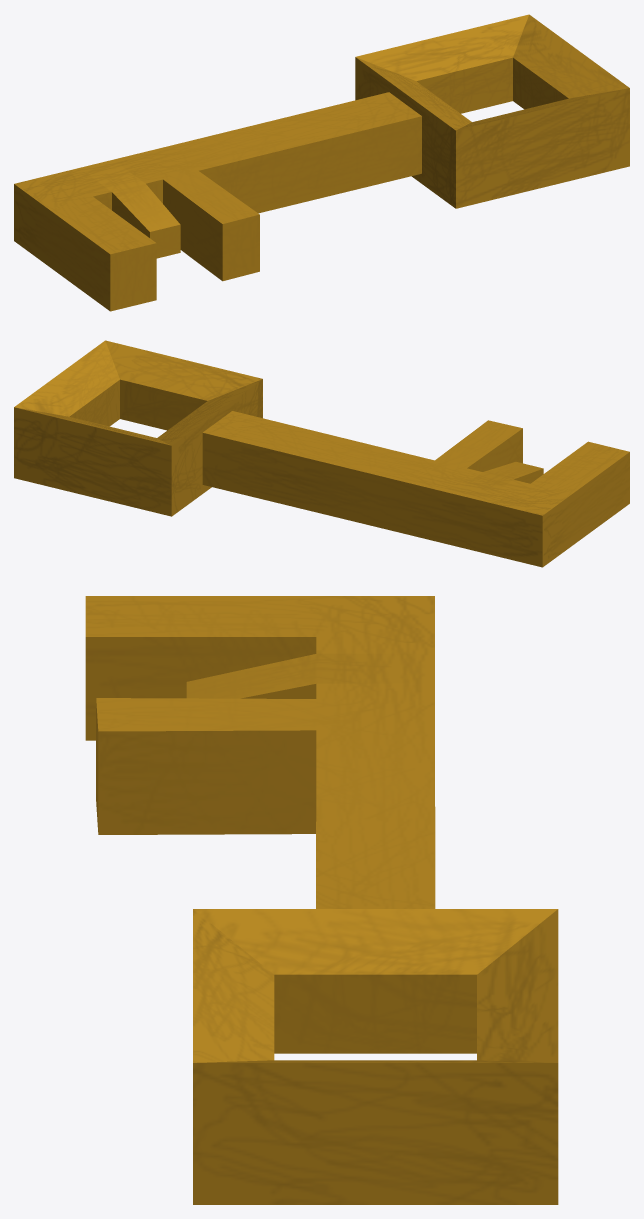
Rendered from Key.fbx.
3 views of the same model, one above another, from view 1: azimuth 30°, elevation 25°; view 2: azimuth 150°, elevation 25°; view 3: azimuth 270°, elevation 25° (orthographic). The views are drawn at different scales.
Parts seen in each view (by area): view 1: Key; view 2: Key; view 3: Key.
Part boxes in pixels (bbox=[...]): Key: bbox=[14, 14, 629, 311]; Key: bbox=[14, 340, 629, 567]; Key: bbox=[85, 596, 558, 1204].
Size of the model in its own units: 5.38 by 0.7318 by 2.21.
